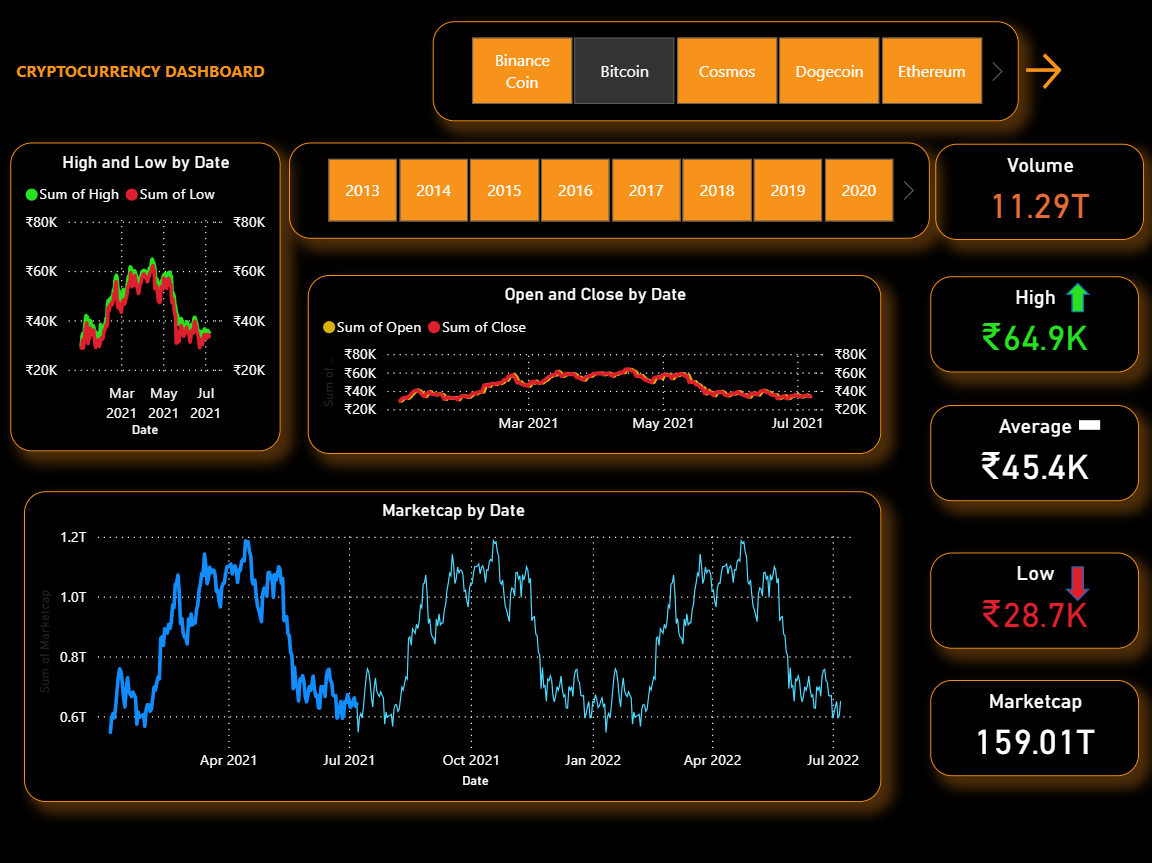

Layout of this report page (visuals, bound fields, positions):
{"tool":"powerbi","page":{"name":"Overview","canvas":[960,720],"ordinal":0},"visuals":[{"type":"slicer","fields":{"Values":["CryptoDataSet.Name"]},"box":[360.6,17.7,487.4,83.1],"z":0},{"type":"slicer","fields":{"Values":["CryptoDataSet.Year"]},"box":[241.1,118.5,533.1,80],"z":1000},{"type":"actionButton","box":[848,39.5,99.8,39.5],"z":2000},{"type":"card","title":"Volume","fields":{"Values":["Sum(CryptoDataSet.Volume)"]},"box":[778.4,119.5,173.6,80],"z":3000},{"type":"card","title":"High","fields":{"Values":["Max(CryptoDataSet.High)"]},"box":[774.3,229.7,173.6,80],"z":4000},{"type":"card","title":"Average","fields":{"Values":["Avg(CryptoDataSet.Average)"]},"box":[774.3,336.7,173.6,80],"z":5000},{"type":"card","title":"Low","fields":{"Values":["Min(CryptoDataSet.Low)"]},"box":[774.3,459.4,173.6,80],"z":6000},{"type":"card","title":"Marketcap","fields":{"Values":["Sum(CryptoDataSet.Marketcap)"]},"box":[774.3,565.4,173.6,80],"z":7000},{"type":"shape","box":[886.5,234.9,20.8,24.9],"z":8000},{"type":"shape","box":[886.5,470.8,20.8,29.1],"z":9000},{"type":"shape","box":[897.9,329.4,17.7,47.8],"z":10000},{"type":"textbox","box":[9.4,44.7,247.3,154.9],"z":11000},{"type":"lineChart","title":"High and Low by Date","fields":{"Category":["CryptoDataSet.Date"],"Y":["Sum(CryptoDataSet.High)"],"Y2":["Sum(CryptoDataSet.Low)"]},"box":[9.4,118.5,224.5,256.7],"z":12000},{"type":"lineChart","title":"Open and Close by Date","fields":{"Category":["CryptoDataSet.Date"],"Y":["Sum(CryptoDataSet.Open)"],"Y2":["Sum(CryptoDataSet.Close)"]},"box":[256.7,228.6,477,148.6],"z":13000},{"type":"lineChart","title":"Marketcap by Date","fields":{"Category":["CryptoDataSet.Date"],"Y":["Sum(CryptoDataSet.Marketcap)"]},"box":[20.8,408.4,712.9,258.8],"z":14000}]}

Visuals, with their boxes in screenshot pixels (x1, y1, x2, y2), scaled from the page's 960x720 canvas onto the 1152x863 screenshot:
slicer - CryptoDataSet.Name: 433/21/1018/121
slicer - CryptoDataSet.Year: 289/142/929/238
actionButton: 1018/47/1137/95
"Volume" card: 934/143/1142/239
"High" card: 929/275/1137/371
"Average" card: 929/404/1137/499
"Low" card: 929/551/1137/647
"Marketcap" card: 929/678/1137/774
shape: 1064/282/1089/311
shape: 1064/564/1089/599
shape: 1077/395/1099/452
textbox: 11/54/308/239
"High and Low by Date" lineChart: 11/142/281/450
"Open and Close by Date" lineChart: 308/274/880/452
"Marketcap by Date" lineChart: 25/490/880/800
